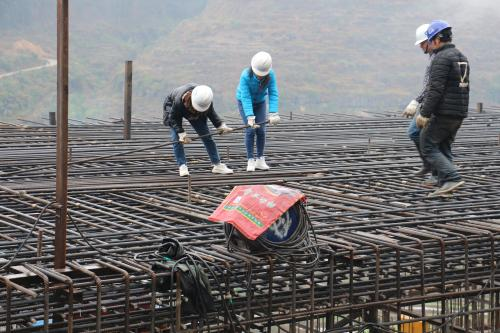boots: (428, 179, 465, 196), (211, 163, 234, 173), (421, 176, 438, 188), (255, 155, 269, 169), (414, 166, 432, 176), (179, 164, 189, 176), (247, 158, 256, 170)
gloves: (401, 99, 419, 118), (415, 114, 430, 129), (216, 122, 233, 135), (177, 131, 192, 144), (267, 112, 280, 125), (179, 164, 189, 176), (247, 115, 256, 127)
hard-hat: (191, 85, 213, 112), (426, 19, 451, 41), (251, 50, 272, 76), (414, 23, 430, 46)
person: (413, 19, 471, 197), (162, 82, 234, 176), (401, 23, 436, 181), (235, 51, 281, 171)
